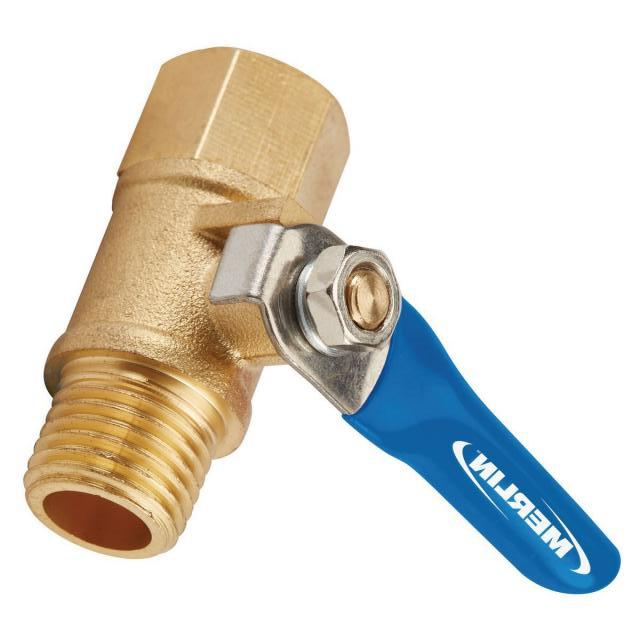closed valve: (23, 37, 625, 603)
